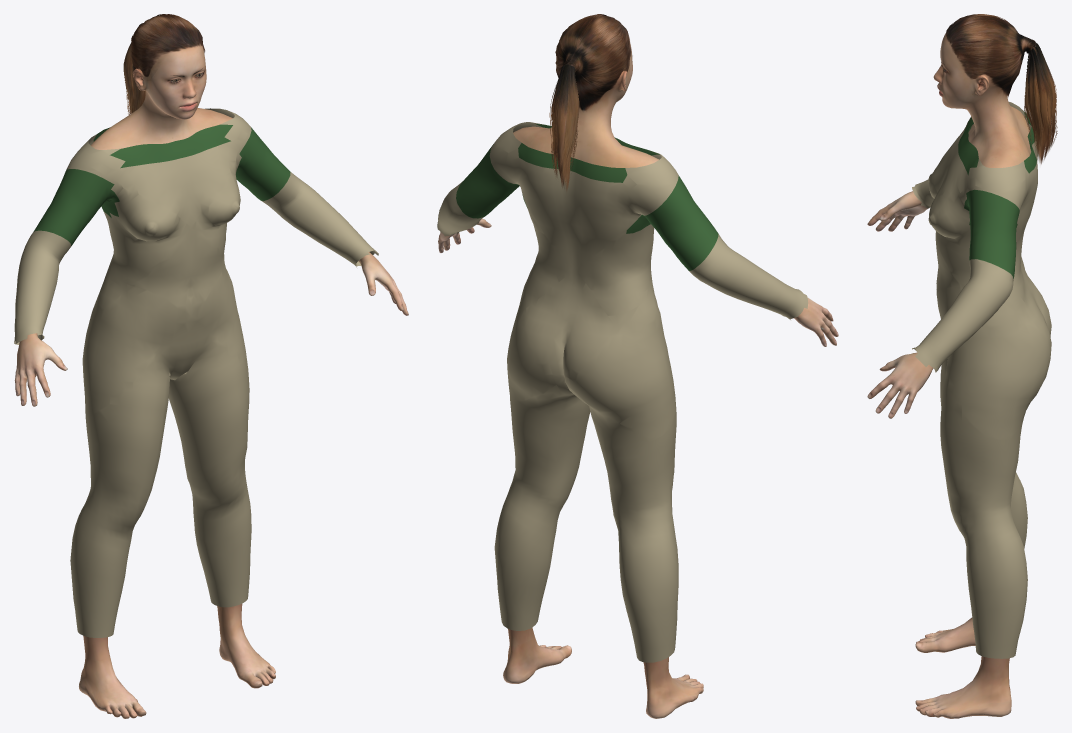
File: crew_LYRA.glb
3 renders of one model, left to right at view 1: azimuth 30°, elevation 25°; view 2: azimuth 150°, elevation 25°; view 3: azimuth 270°, elevation 25°, orthographic.
Parts seen in each view (by area): view 1: LYRA_uniform, LYRA_skin, LYRA_ponytail01; view 2: LYRA_uniform, LYRA_skin, LYRA_ponytail01; view 3: LYRA_uniform, LYRA_skin, LYRA_ponytail01.
Boxes of the visible parts, left/top/right/bottom form: LYRA_uniform: left=14, top=108, right=378, bottom=637; LYRA_skin: left=14, top=44, right=408, bottom=718; LYRA_ponytail01: left=123, top=14, right=205, bottom=114; LYRA_uniform: left=437, top=122, right=808, bottom=662; LYRA_skin: left=438, top=39, right=838, bottom=718; LYRA_ponytail01: left=549, top=14, right=631, bottom=191; LYRA_uniform: left=912, top=102, right=1051, bottom=658; LYRA_skin: left=867, top=33, right=1030, bottom=718; LYRA_ponytail01: left=946, top=14, right=1057, bottom=164.
Bounding box in the file's own units: 0.9321 × 1.53 × 0.3977.
Materials: 16 (11 with a texture image).
